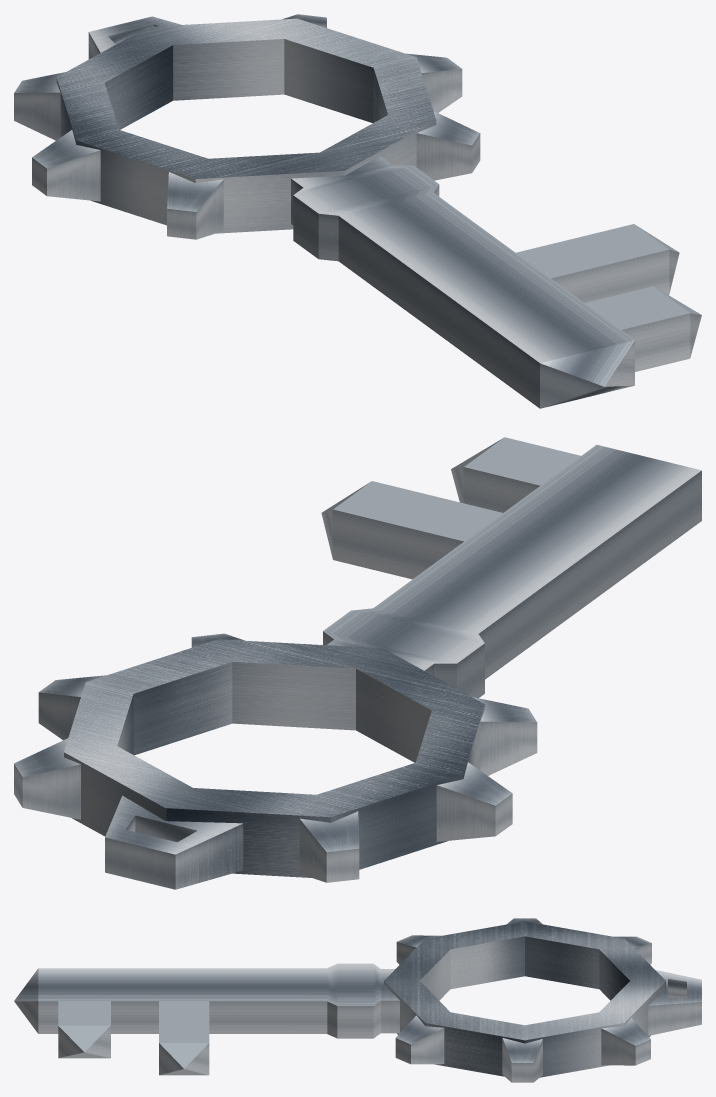
Rendered from key.glb.
3 views of the same model, one above another, from view 1: azimuth 30°, elevation 25°; view 2: azimuth 150°, elevation 25°; view 3: azimuth 270°, elevation 25° (orthographic). The views are drawn at different scales.
Parts seen in each view (by area): view 1: key; view 2: key; view 3: key.
Boxes of the visible parts, bbox=[...] form: key: bbox=[14, 14, 701, 408]; key: bbox=[14, 437, 701, 889]; key: bbox=[14, 918, 701, 1082].
Size of the model in its own units: 2.13 by 0.2736 by 4.27.
Materials: 1 (1 with a texture image).
